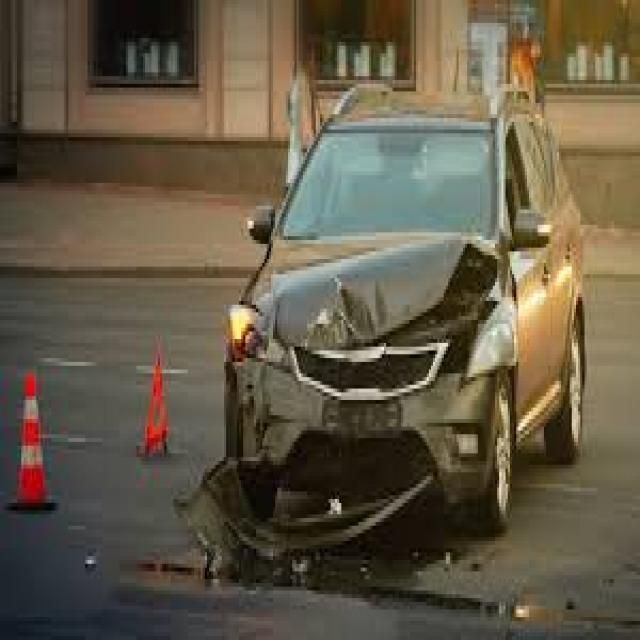accident: (192, 83, 608, 591)
